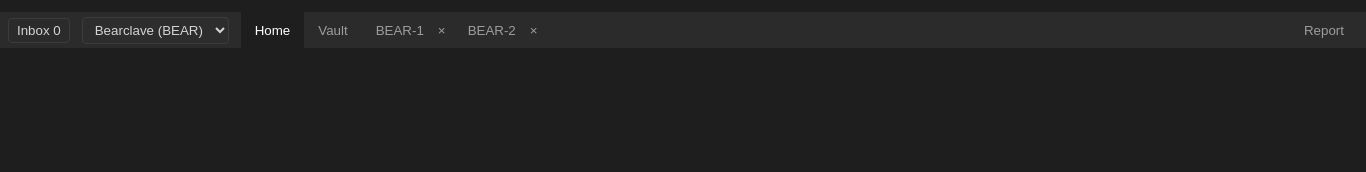
TabBar › shows why the vault tab failed to open
The image size is (1366, 172).
Click the tab "Vault" at (333, 30), box x1=304 y1=12 x2=362 y2=48
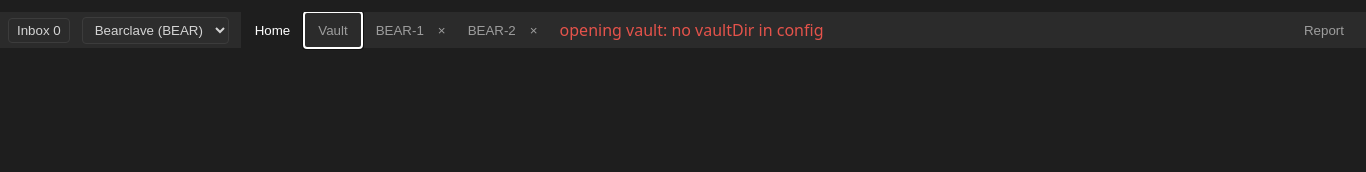
Expected: the message reads "opening vault: no vaultDir in config", x1=560 y1=19 x2=824 y2=41
